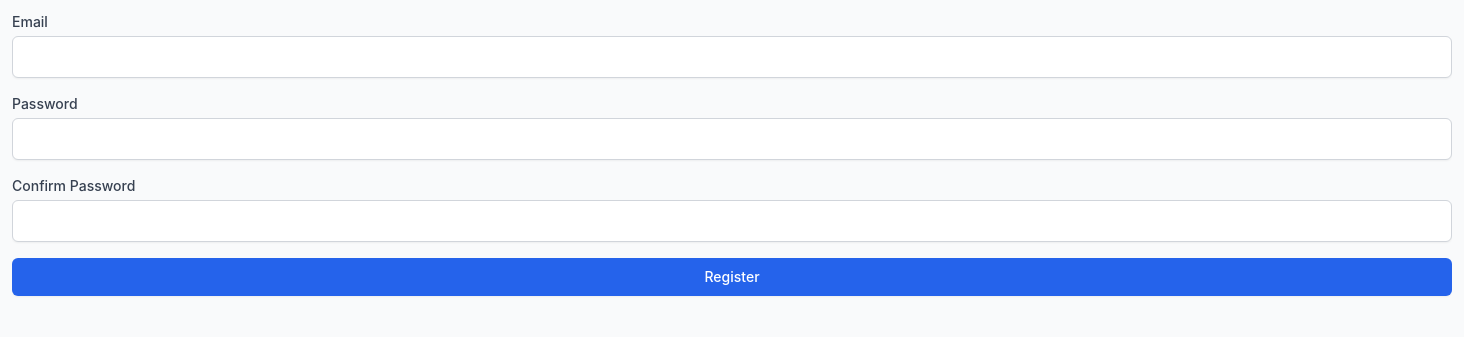
RegisterForm › should show error when passwords do not match
The image size is (1464, 337).
Type "test@example.com" into the field labelled "Email" at (732, 57), box 12,36 -> 1452,78
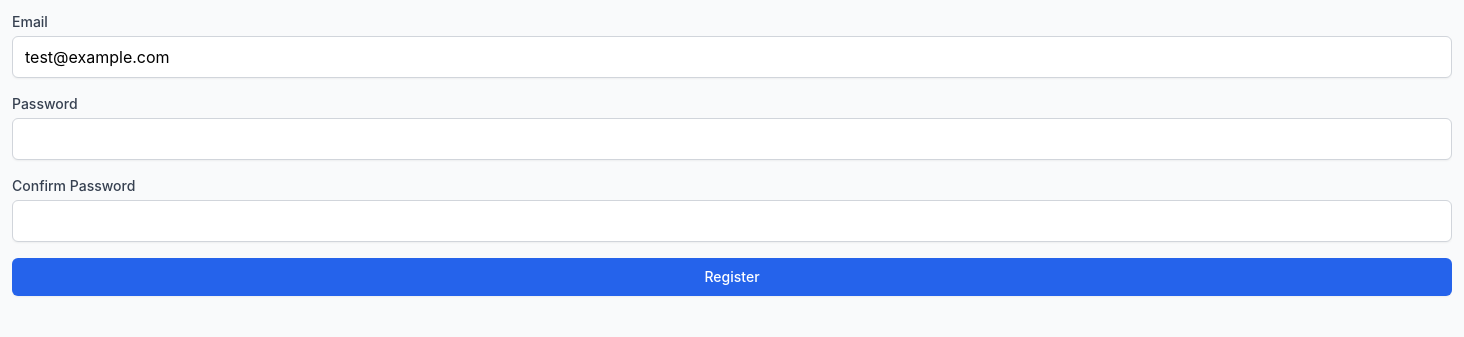
Type "password123" into the password field labelled "Password" at (732, 139), box 12,118 -> 1452,160
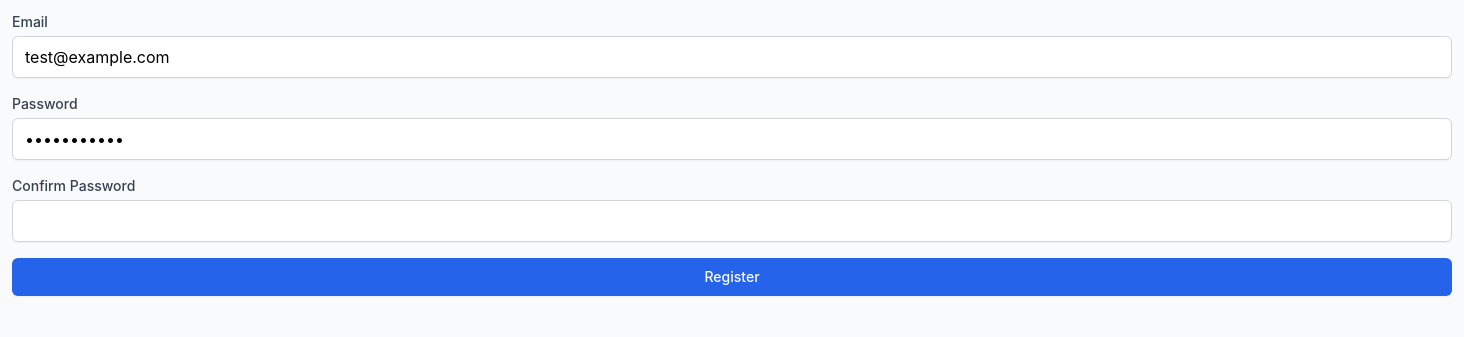
Type "differentpassword" into the password field labelled "Confirm Password" at (732, 221), box 12,200 -> 1452,242
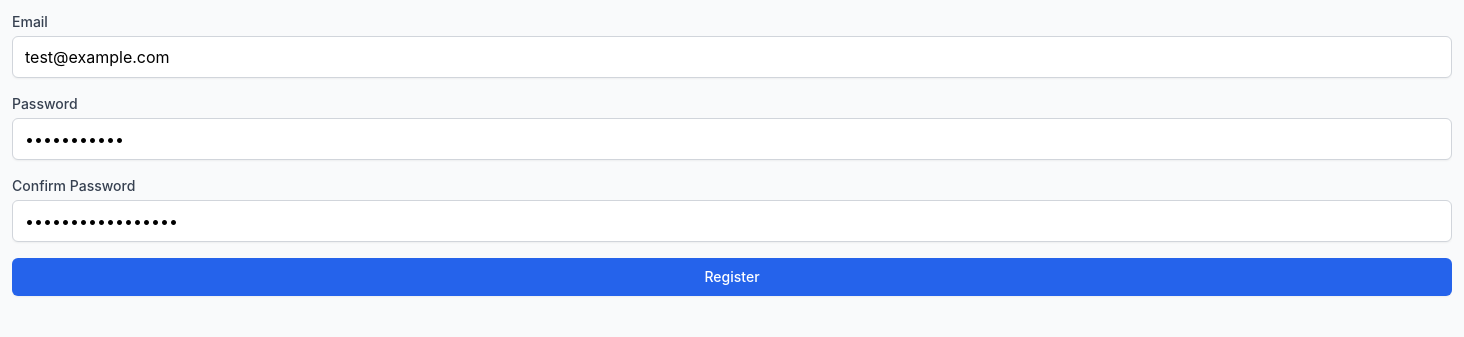
Click the button "Register" at (732, 277), box 12,258 -> 1452,296
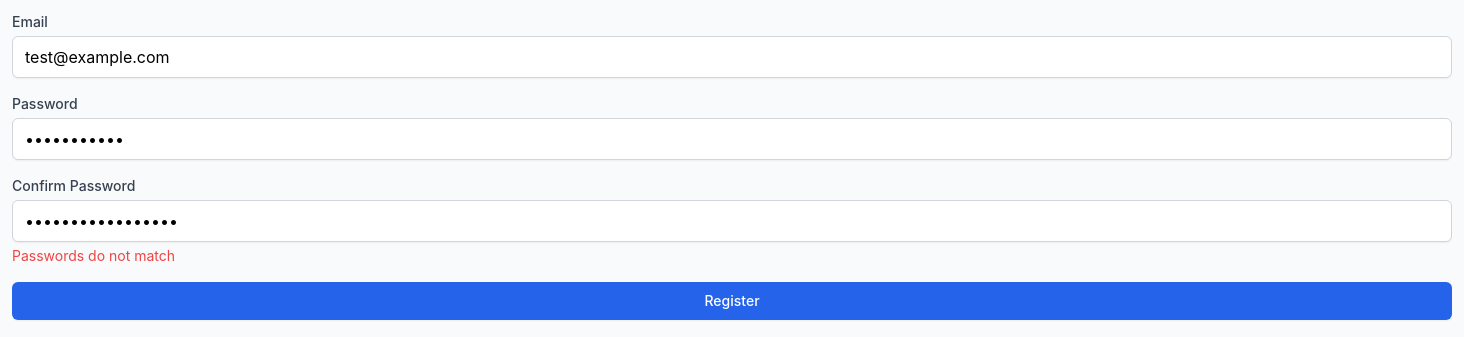
expect the text "Passwords do not match" is shown: met, box 12,247 -> 175,264
